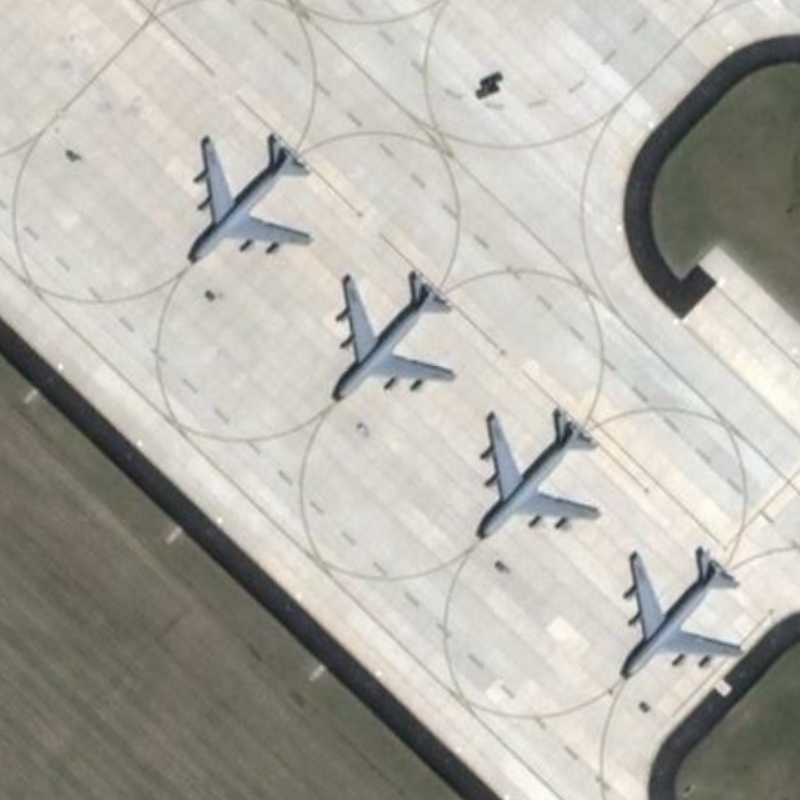A14: (322, 256, 462, 417), (465, 396, 610, 546), (614, 536, 750, 687), (179, 126, 315, 275)
